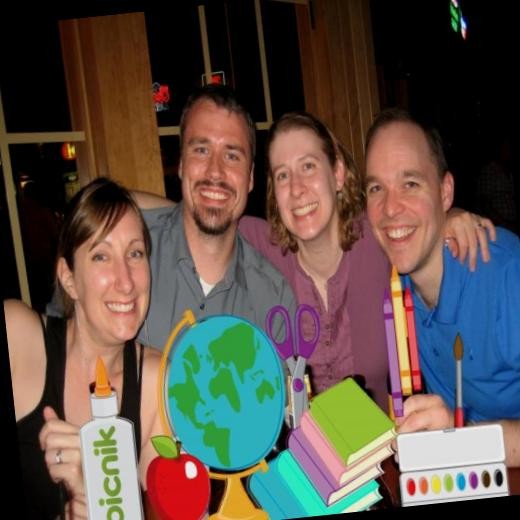Apple: (141, 437, 216, 520)
